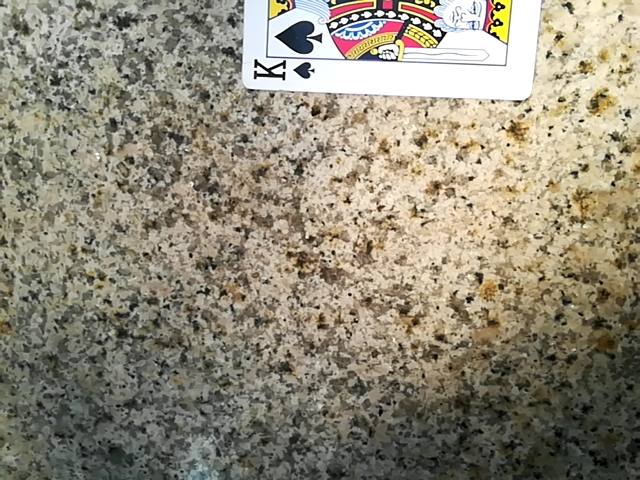ht k: (220, 0, 538, 105)
